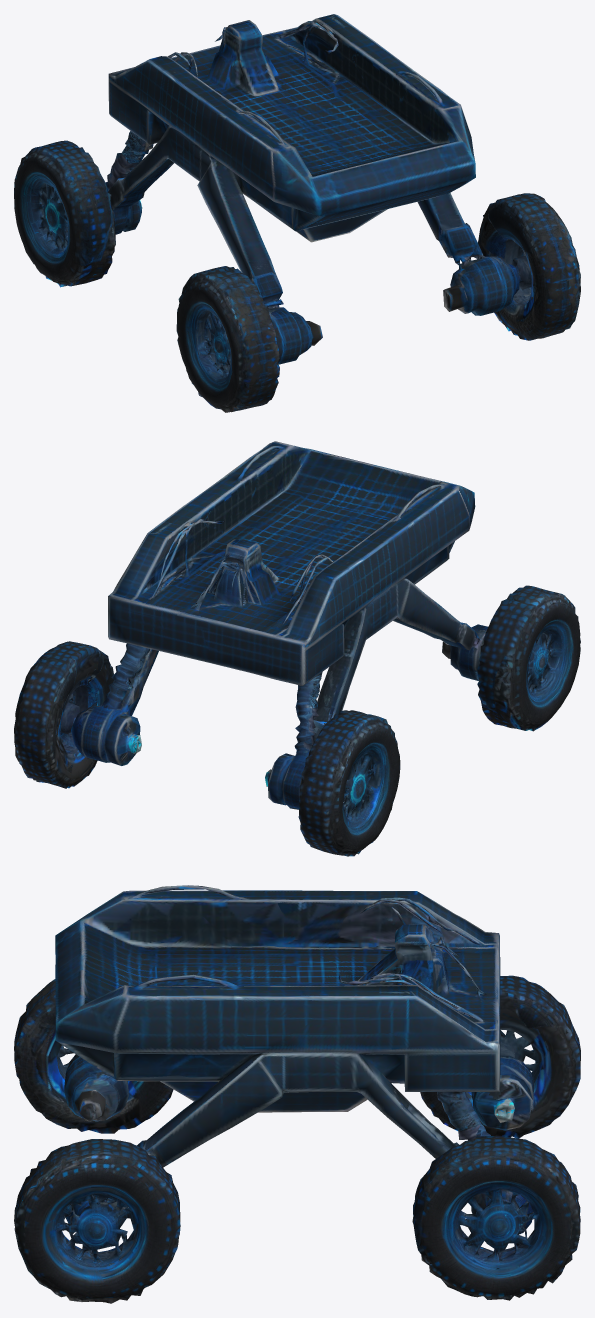
File: rover.glb
3 views of the same model, one above another, from view 1: azimuth 30°, elevation 25°; view 2: azimuth 150°, elevation 25°; view 3: azimuth 270°, elevation 25° (orthographic). The views are drawn at different scales.
Bounding box in the file's own units: 1.62 × 1.1 × 2.
1 material, 1 textured.
